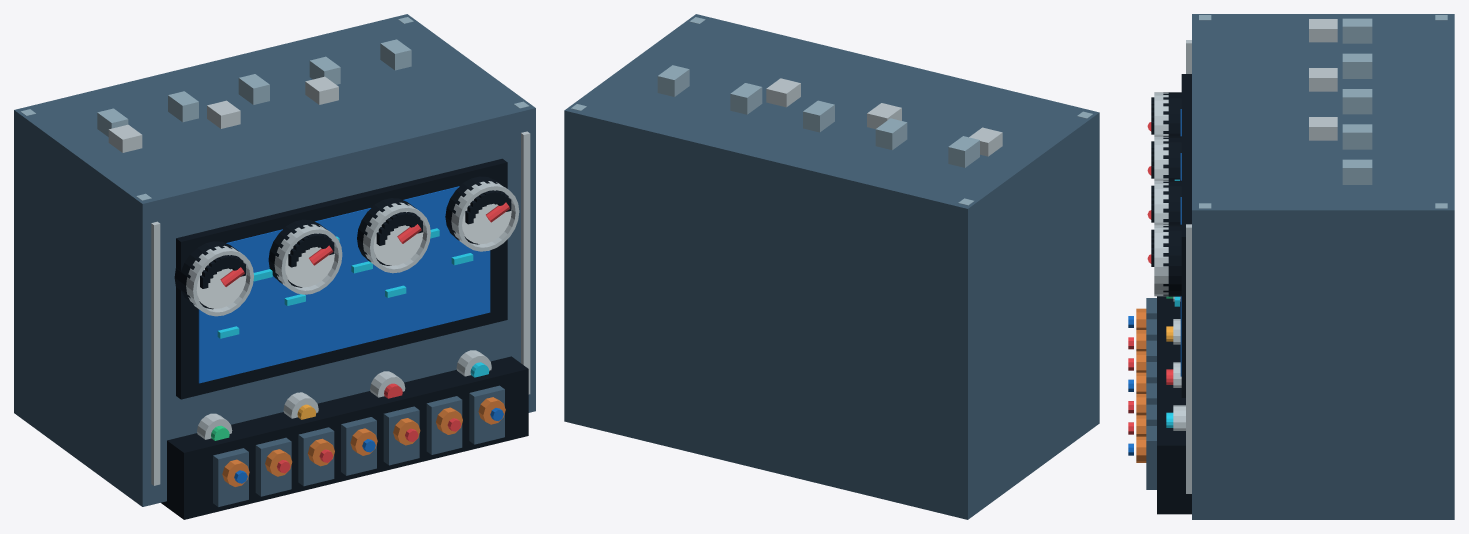
Rendered from 48_L73_MultiZonePressurePIDController.fbx.
The picture shows the model from 3 angles, left to right: view 1: azimuth 30°, elevation 25°; view 2: azimuth 150°, elevation 25°; view 3: azimuth 270°, elevation 25°; orthographic projection. The views are drawn at different scales.
Visible parts, largest first — view 1: MultiZonePressurePIDController; view 2: MultiZonePressurePIDController; view 3: MultiZonePressurePIDController.
Part boxes in pixels (bbox=[...]): MultiZonePressurePIDController: bbox=[14, 14, 535, 519]; MultiZonePressurePIDController: bbox=[564, 14, 1099, 519]; MultiZonePressurePIDController: bbox=[1128, 14, 1454, 519].
Size of the model in its own units: 129 by 102 by 90.73.
